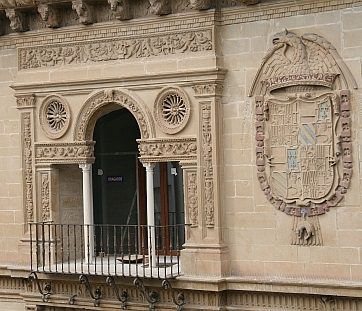serliana: (33, 85, 192, 281)
